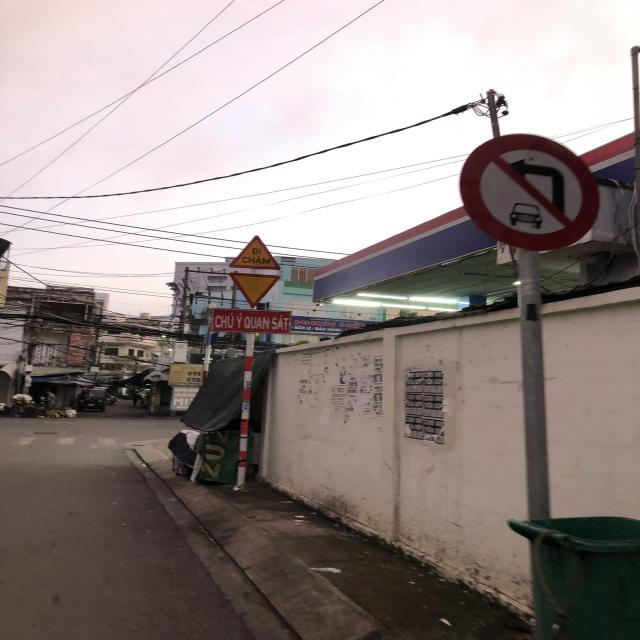Bien bao cam xe o to re trai: (444, 127, 607, 256)
Bien bao di cham: (225, 232, 283, 270)
Bien bao giao nhau voi duong uu tien: (223, 268, 285, 309)
